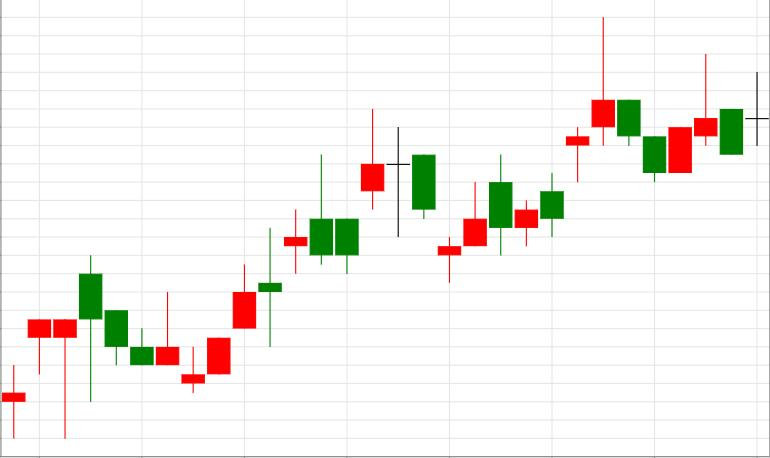shooting_star_fall: (182, 109, 384, 394), (438, 17, 614, 283)
